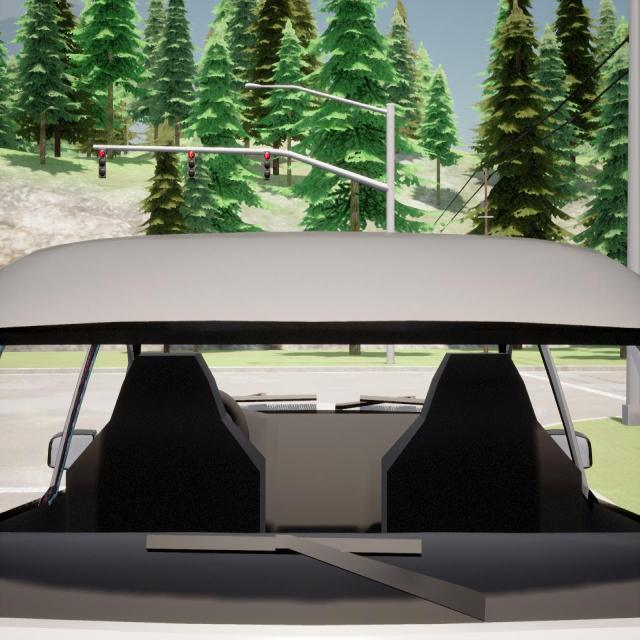Vehicle: (0, 235, 640, 623)
traffic_light: (99, 149, 106, 178), (264, 151, 270, 181), (189, 151, 195, 178)
